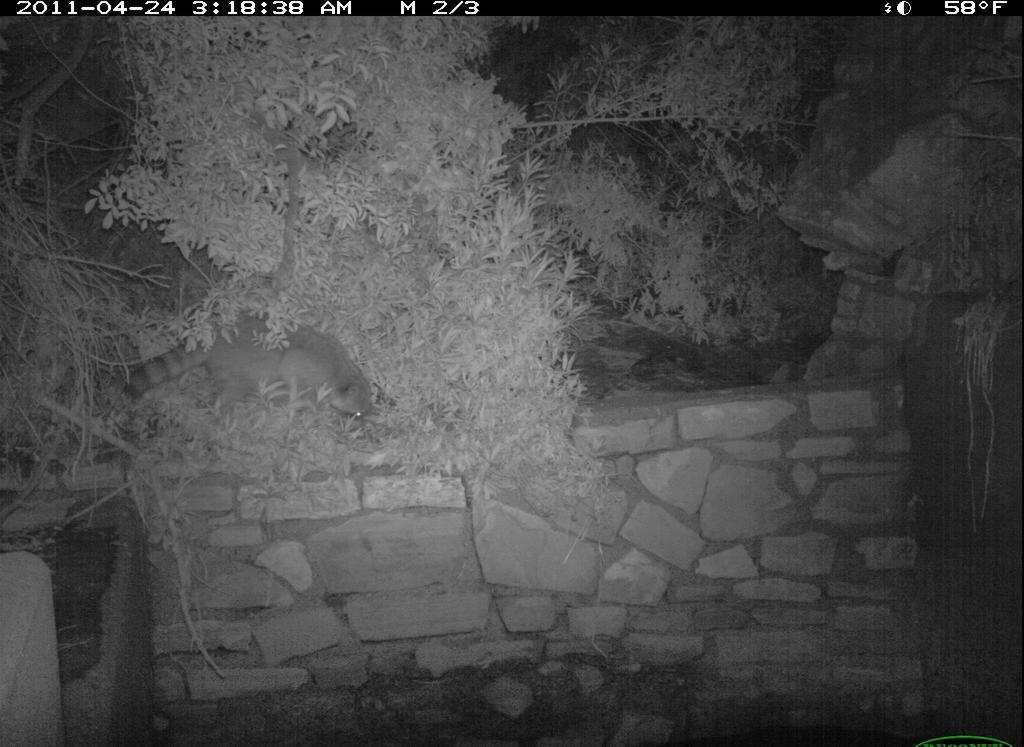raccoon: (110, 303, 377, 446)
